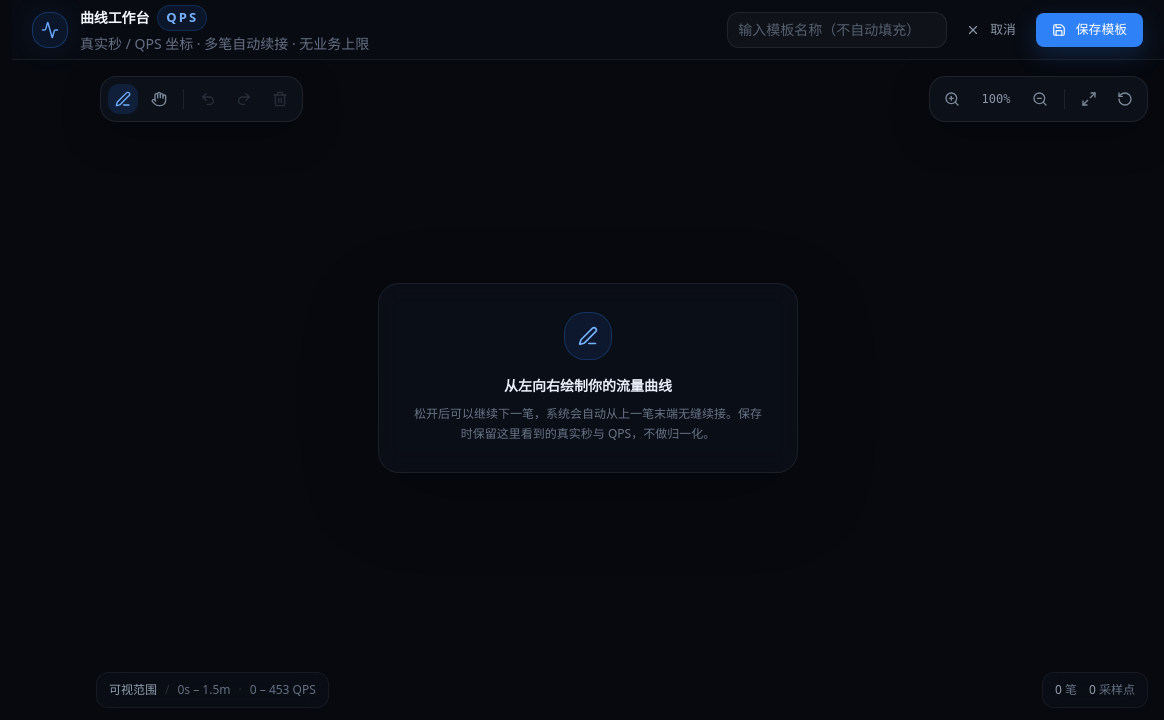
DrawCanvas 保存与取消 › 有名称但曲线过短时提示
Press the mouse on the drawing named "QPS 曲线绘制画布": {"x": 412, "y": 260} [12, 60, 812, 460]
In the field labelled "模板名称": {"x": 837, "y": 30} [727, 12, 947, 48], type "tpl"
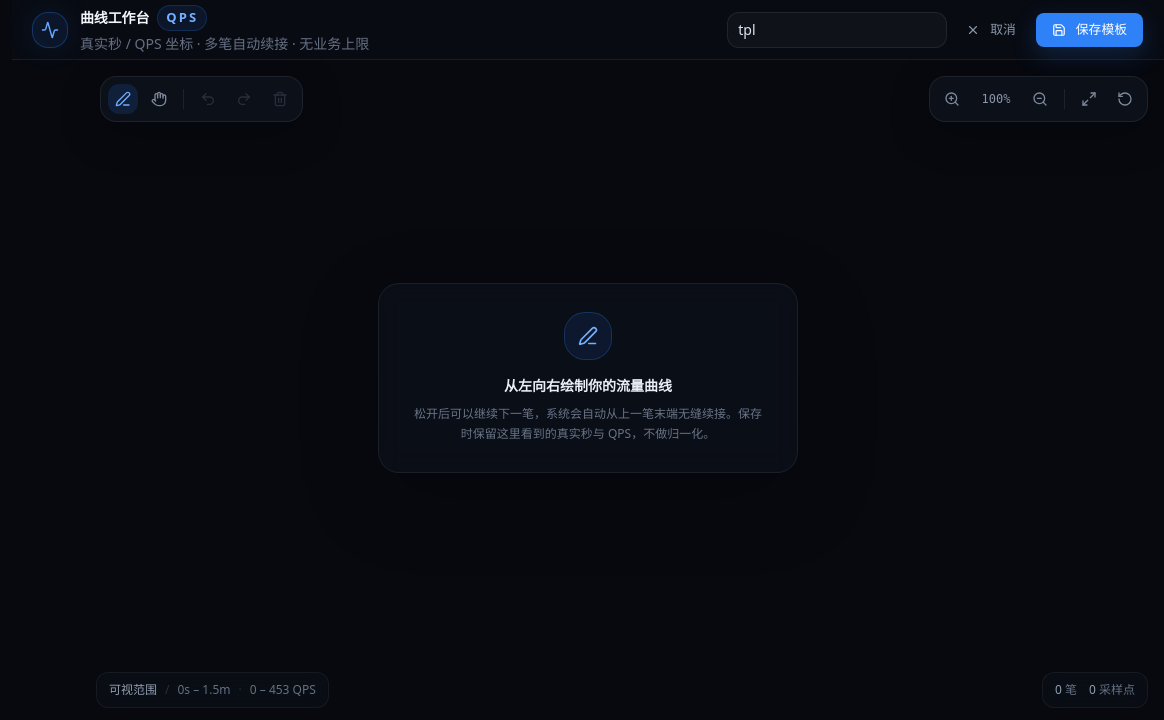
Click the button "保存模板": {"x": 1089, "y": 30} [1035, 12, 1144, 48]
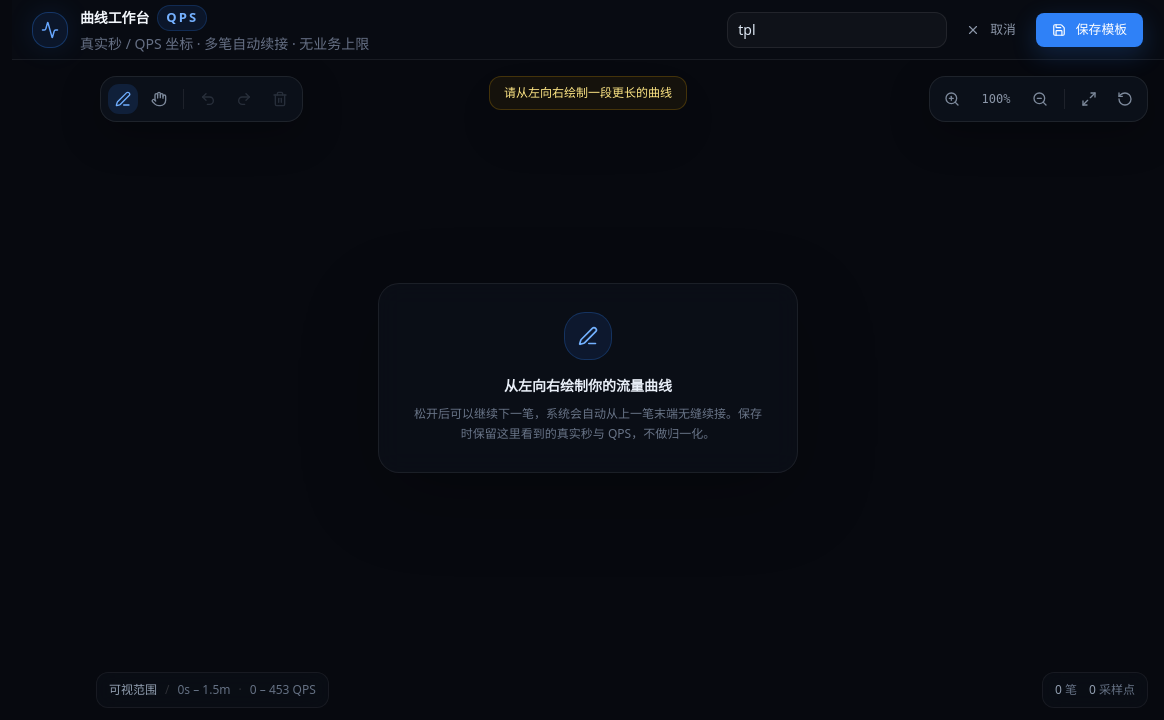
Result: the text "请从左向右绘制一段更长的曲线" is shown at [489, 76, 687, 110]
